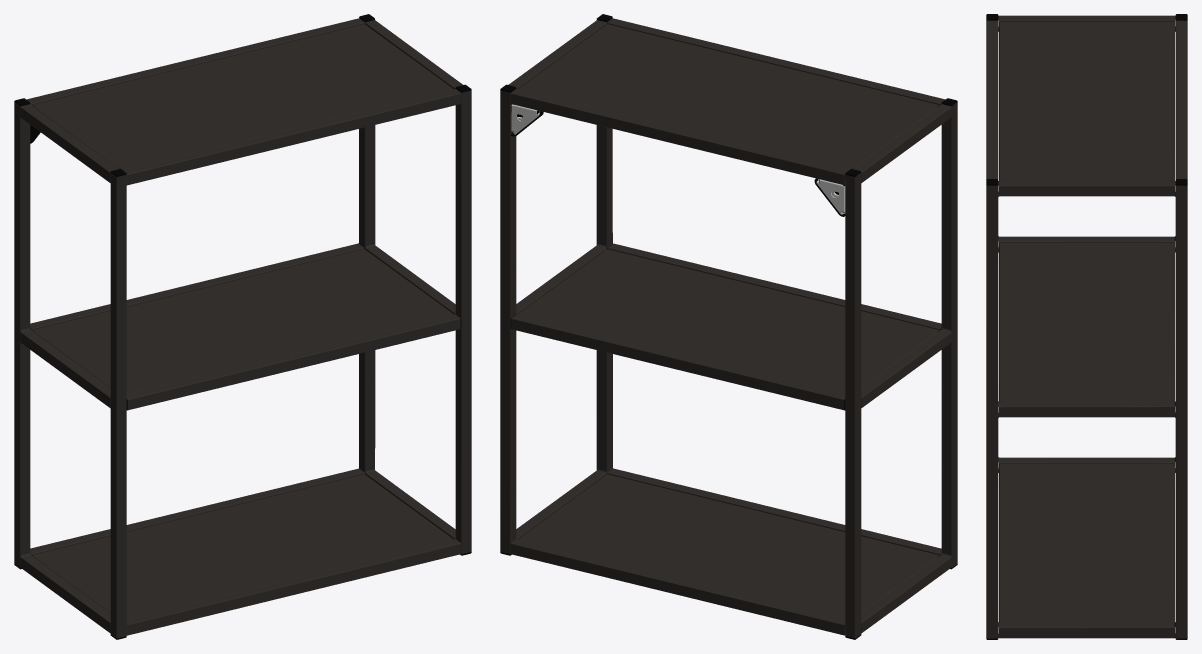
File: enhet_rama_szafki_wiszacej_z_pokami_00448972.glb
3 views of the same model, side by side, from view 1: azimuth 30°, elevation 25°; view 2: azimuth 150°, elevation 25°; view 3: azimuth 270°, elevation 25° (orthographic).
Visible parts, largest first — view 1: enhet_rama_szafki_wiszacej_z_pokami_00448972; view 2: enhet_rama_szafki_wiszacej_z_pokami_00448972; view 3: enhet_rama_szafki_wiszacej_z_pokami_00448972.
Boxes of the visible parts, box(x1,y1,x2,y2) form: enhet_rama_szafki_wiszacej_z_pokami_00448972: box(14, 14, 471, 639); enhet_rama_szafki_wiszacej_z_pokami_00448972: box(500, 14, 957, 639); enhet_rama_szafki_wiszacej_z_pokami_00448972: box(986, 14, 1187, 639).
Size of the model in its own units: 0.6 by 0.75 by 0.3.
Materials: 1 (1 with a texture image).
